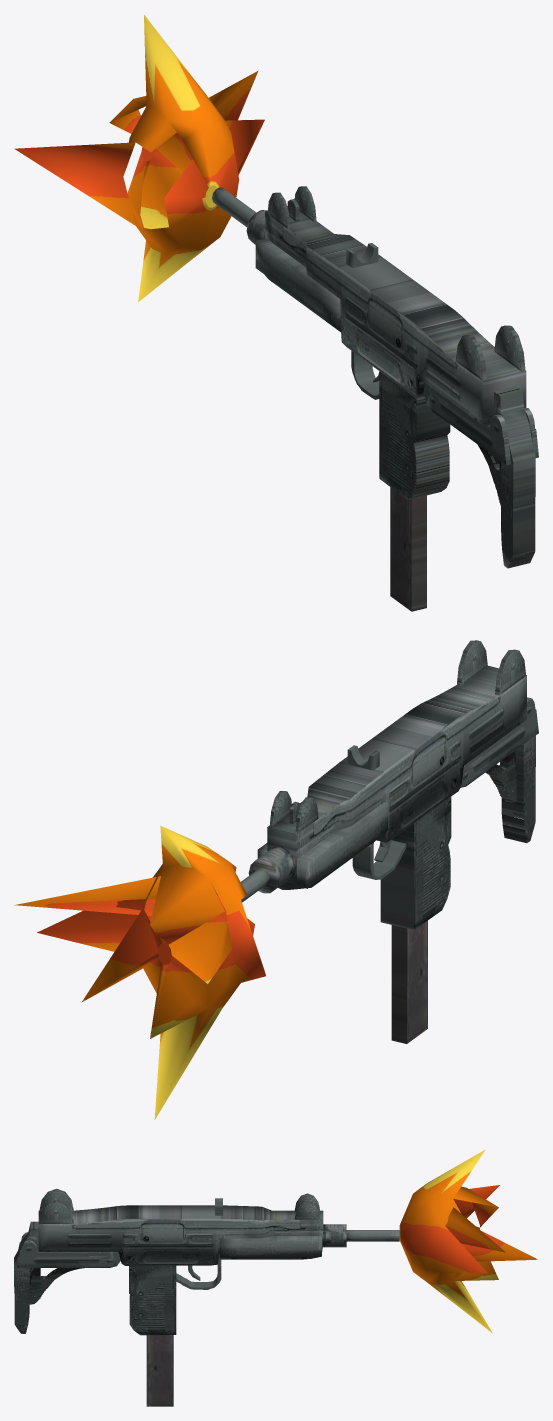
Rendered from uzifire.fbx.
The picture shows the model from 3 angles, top to bottom: view 1: azimuth 30°, elevation 25°; view 2: azimuth 150°, elevation 25°; view 3: azimuth 270°, elevation 25°; orthographic projection. The views are drawn at different scales.
Parts seen in each view (by area): view 1: flash, uzi_body, uzi_grip, uzi_pad, uzi_clip, uzi_frontgrip, uzi_stocksupport, uzi_barrel, uzi_frontsight, uzi_trigger; view 2: flash, uzi_body, uzi_grip, uzi_clip, uzi_frontgrip, uzi_pad, uzi_stocksupport, uzi_barrel, uzi_trigger, uzi_frontsight, uzi_stockframe; view 3: uzi_body, flash, uzi_grip, uzi_frontgrip, uzi_clip, uzi_stocksupport, uzi_pad, uzi_barrel, uzi_stockframe, uzi_frontsight, uzi_trigger.
Boxes of the visible parts, x1,y1,x2,y2 form: flash: (14, 15, 264, 302); uzi_body: (265, 206, 526, 425); uzi_grip: (379, 371, 450, 499); uzi_pad: (494, 386, 535, 568); uzi_clip: (390, 487, 426, 611); uzi_frontgrip: (255, 238, 340, 331); uzi_stocksupport: (423, 383, 538, 465); uzi_barrel: (212, 187, 267, 244); uzi_frontsight: (267, 186, 316, 228); uzi_trigger: (351, 351, 379, 399); flash: (14, 825, 265, 1119); uzi_body: (267, 640, 526, 884); uzi_grip: (380, 797, 451, 930); uzi_clip: (391, 920, 427, 1043); uzi_frontgrip: (257, 802, 387, 889); uzi_pad: (501, 735, 535, 843); uzi_stocksupport: (460, 697, 538, 787); uzi_barrel: (241, 846, 296, 902); uzi_trigger: (352, 840, 406, 879); uzi_frontsight: (269, 791, 318, 832); uzi_stockframe: (485, 750, 516, 802); uzi_body: (38, 1188, 323, 1265); flash: (399, 1149, 537, 1333); uzi_grip: (129, 1265, 176, 1335); uzi_frontgrip: (219, 1236, 321, 1259); uzi_clip: (146, 1335, 173, 1406); uzi_stocksupport: (16, 1232, 120, 1267); uzi_pad: (14, 1221, 38, 1333); uzi_barrel: (322, 1224, 399, 1247); uzi_stockframe: (29, 1268, 84, 1304); uzi_frontsight: (294, 1193, 320, 1219); uzi_trigger: (176, 1255, 221, 1289).
Bounding box in the file's own units: 7.86 × 12.07 × 22.7.
